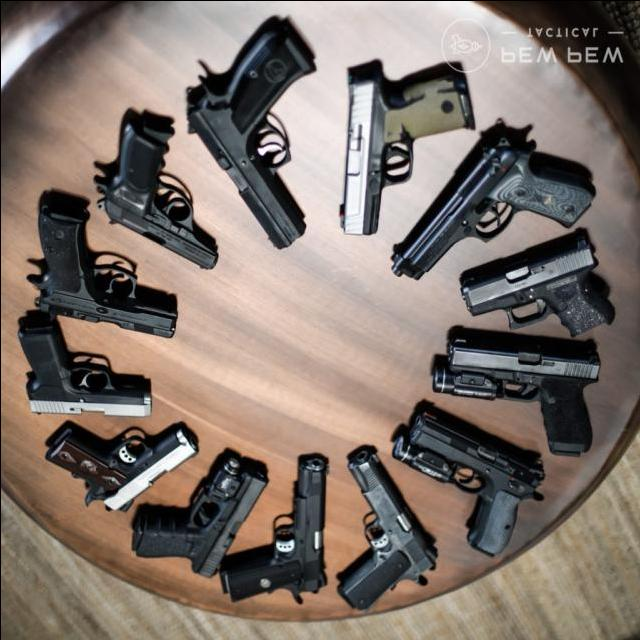pistol: (373, 101, 618, 292), (163, 9, 326, 265), (330, 60, 494, 252), (20, 191, 186, 345), (426, 331, 609, 460), (94, 104, 231, 275), (123, 451, 277, 590), (410, 397, 530, 563), (447, 228, 621, 342), (25, 420, 205, 527), (220, 457, 336, 607), (9, 319, 163, 421), (334, 452, 430, 615)
